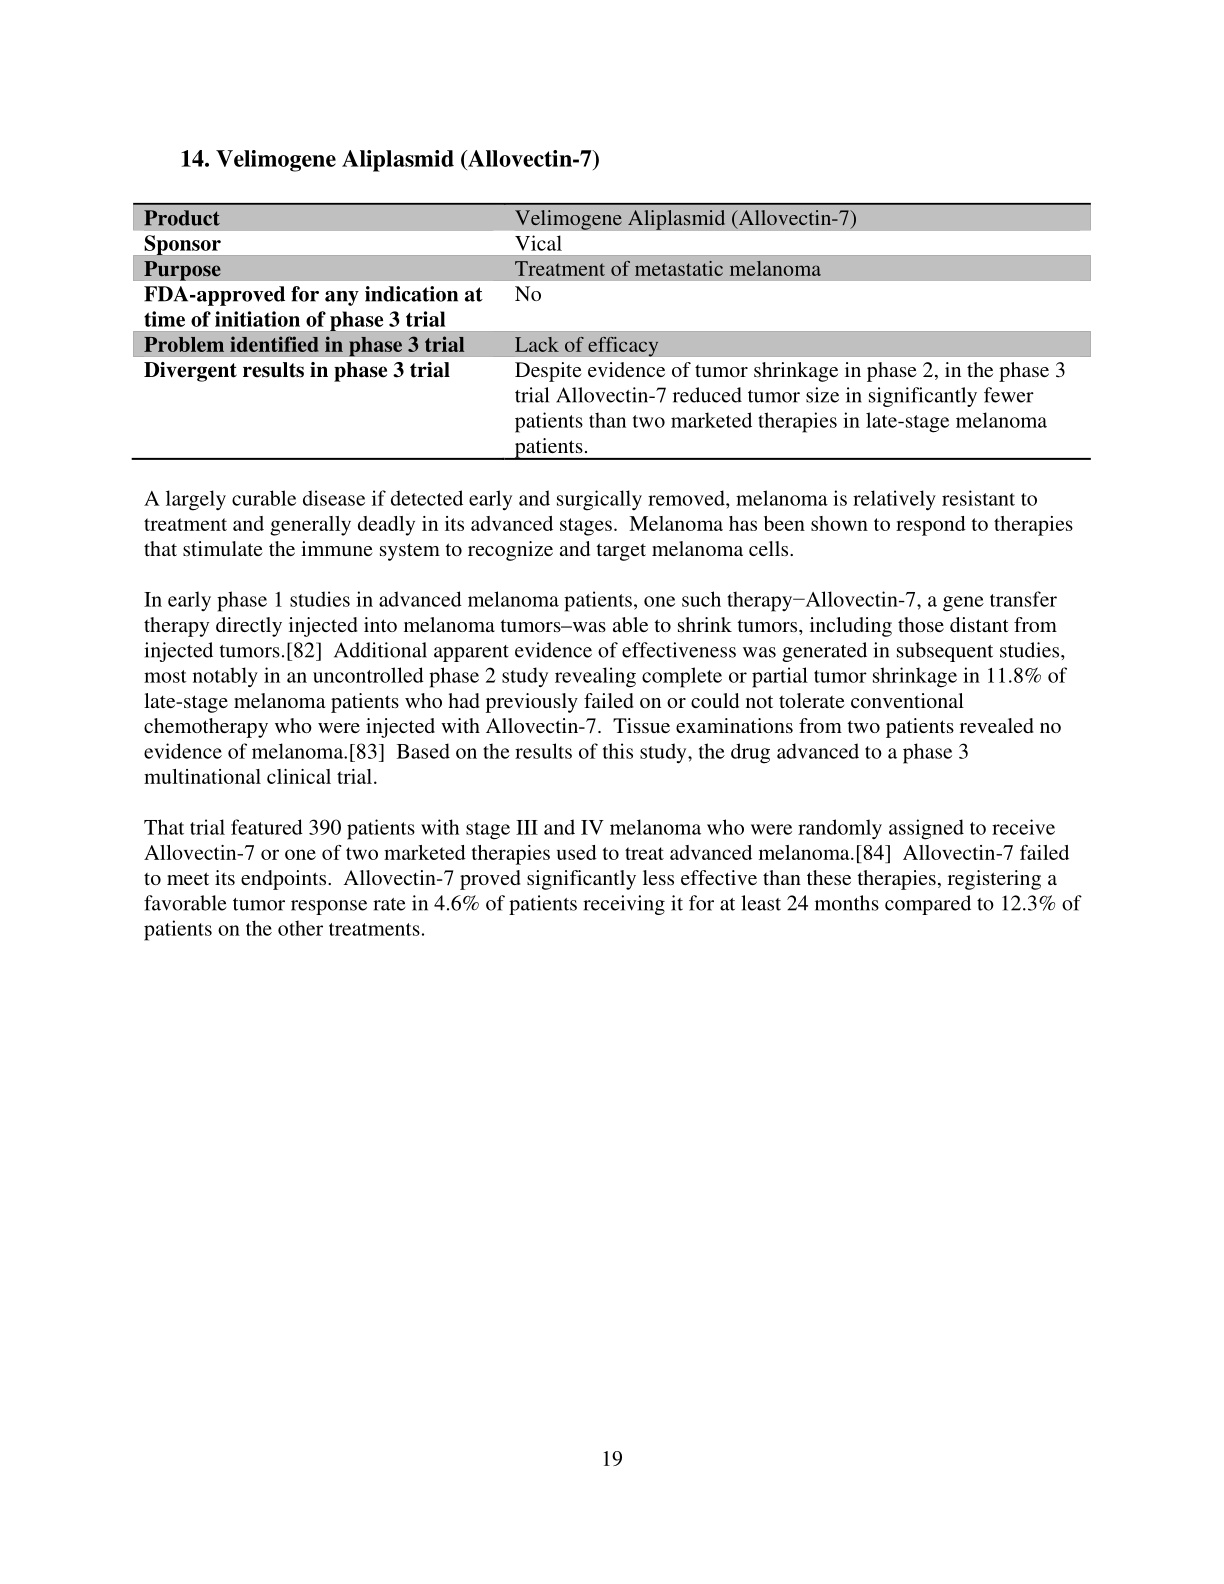partial_lined: (130, 201, 1094, 460)
